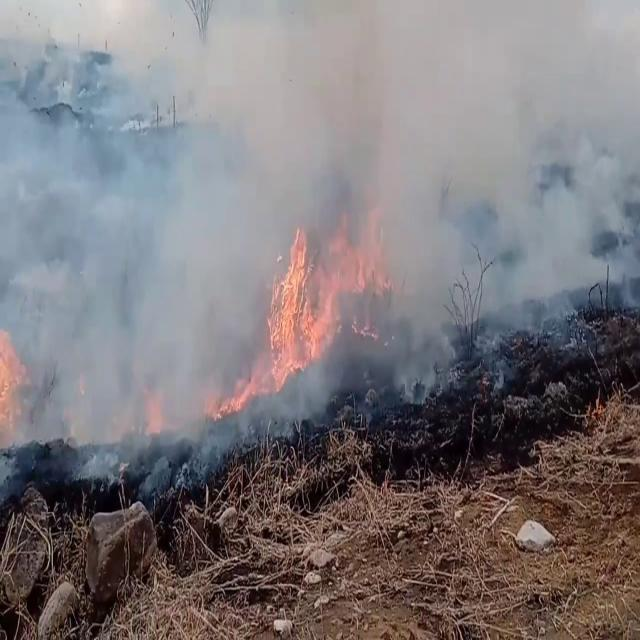Fire: (264, 217, 324, 389), (0, 315, 26, 444)
Smoke: (2, 0, 640, 408)
